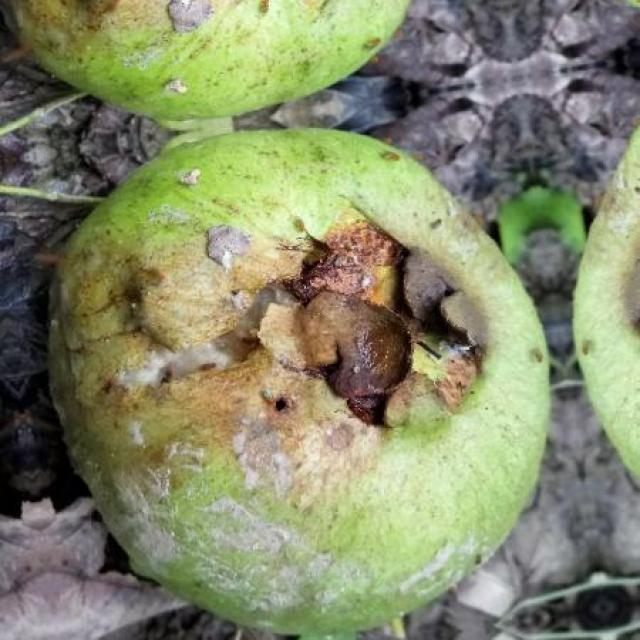Styler and Root: (51, 130, 548, 634), (6, 1, 408, 121)
